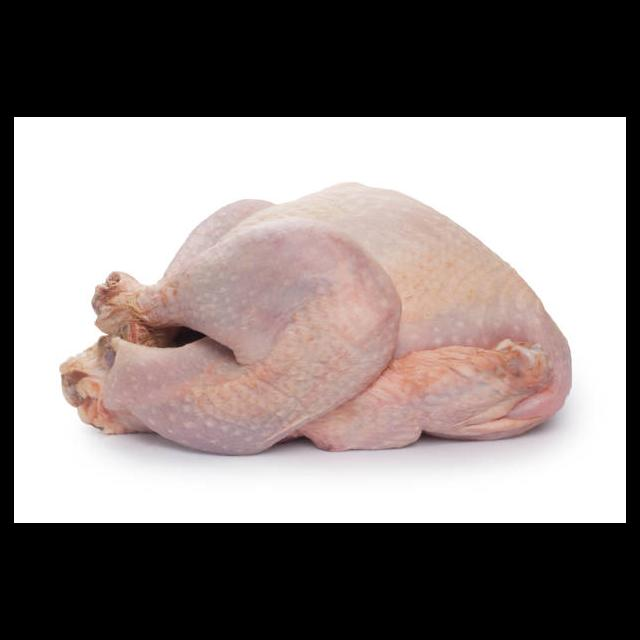chicken: (56, 176, 573, 448)
